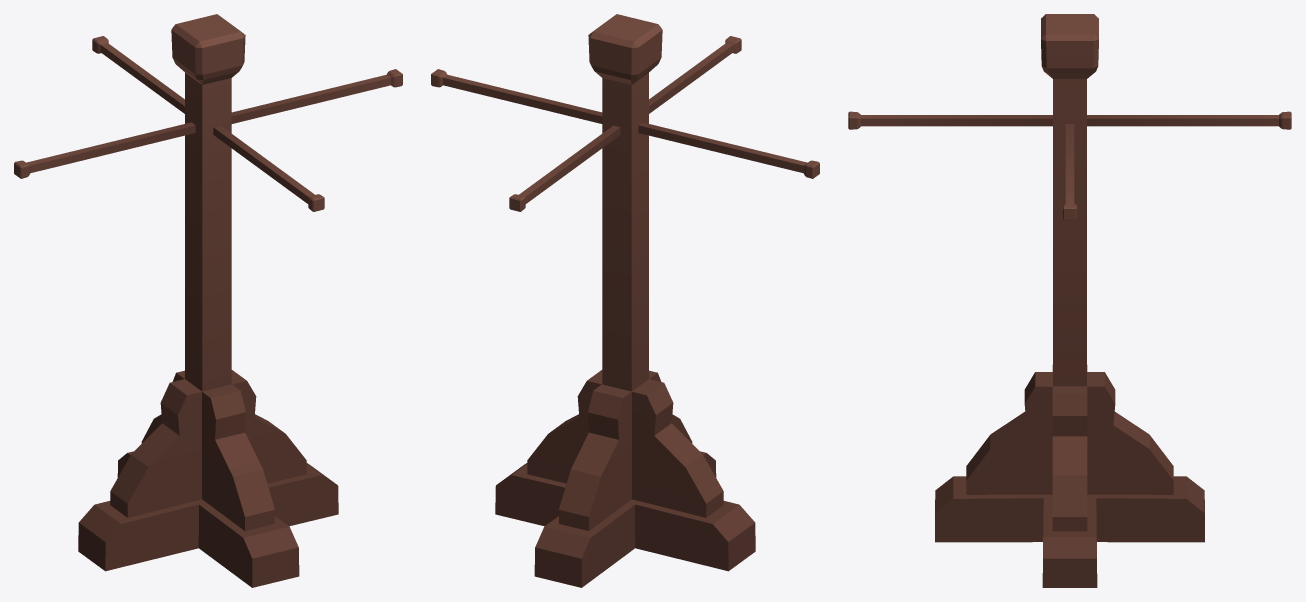
Rendered from WeaponRack_H.fbx.
The picture shows the model from 3 angles, left to right: view 1: azimuth 30°, elevation 25°; view 2: azimuth 150°, elevation 25°; view 3: azimuth 270°, elevation 25°; orthographic projection.
Parts seen in each view (by area): view 1: WeaponRack_H; view 2: WeaponRack_H; view 3: WeaponRack_H.
Boxes of the visible parts, x1,y1,x2,y2 form: WeaponRack_H: [14, 14, 402, 587]; WeaponRack_H: [431, 14, 819, 587]; WeaponRack_H: [848, 14, 1291, 587].
Bounding box in the file's own units: 132 × 166 × 132.
